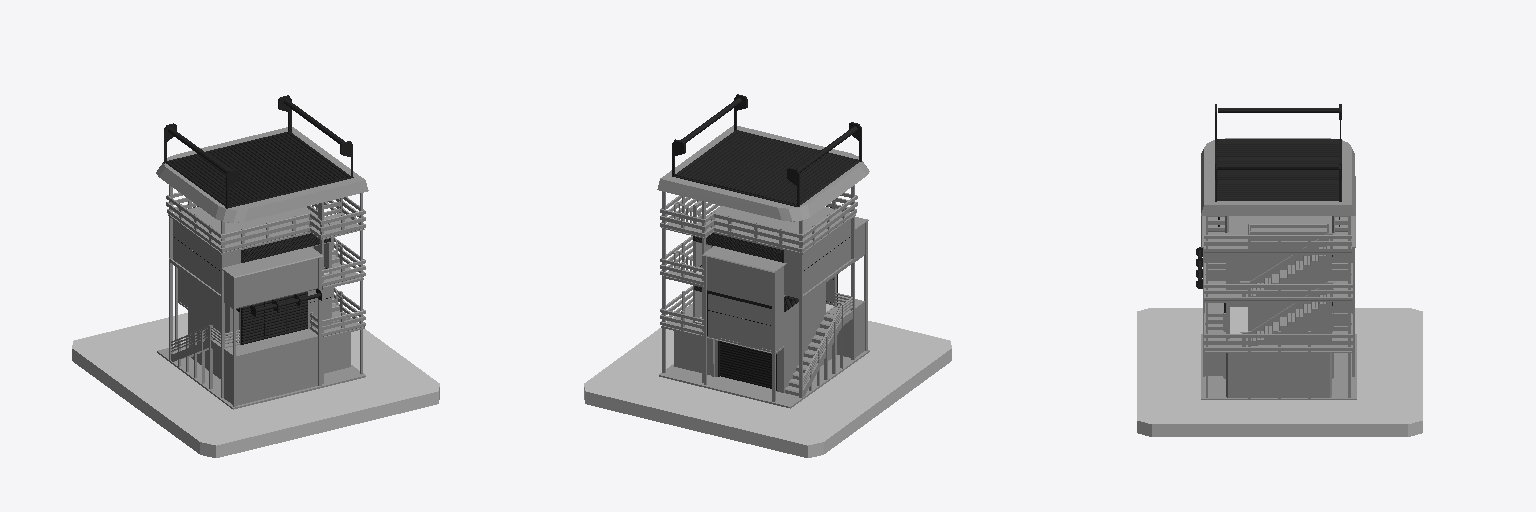
The model's file is Tower_House.obj.
The picture shows the model from 3 angles: view 1: azimuth 30°, elevation 25°; view 2: azimuth 150°, elevation 25°; view 3: azimuth 270°, elevation 25°; orthographic projection.
Visible parts, largest first — view 1: Plane; view 2: Plane; view 3: Plane.
Boxes of the visible parts, <box> form: Plane: <box>72,95,439,457</box>; Plane: <box>584,94,951,457</box>; Plane: <box>1137,104,1422,436</box>.
Bounding box in the file's own units: 15.44 × 15.13 × 16.